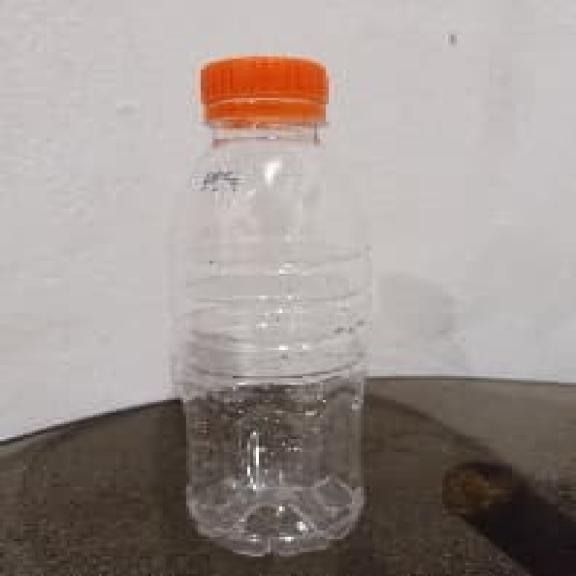Plastik: (187, 56, 370, 556)
